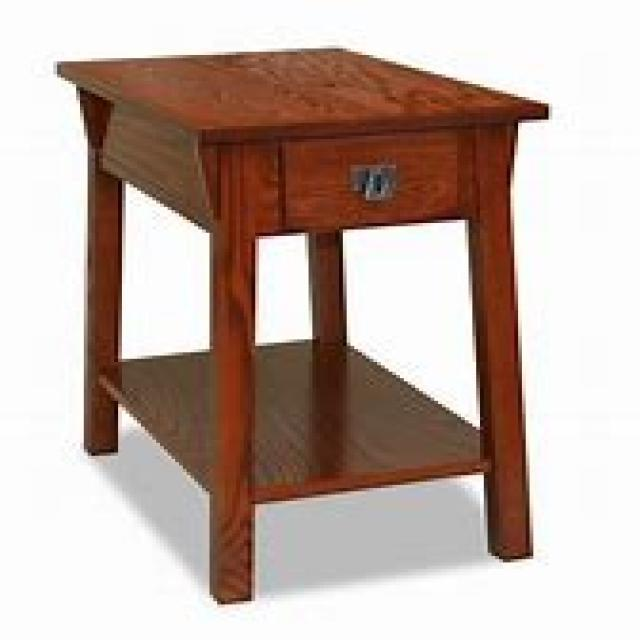mobile-phone: (43, 42, 545, 608)
